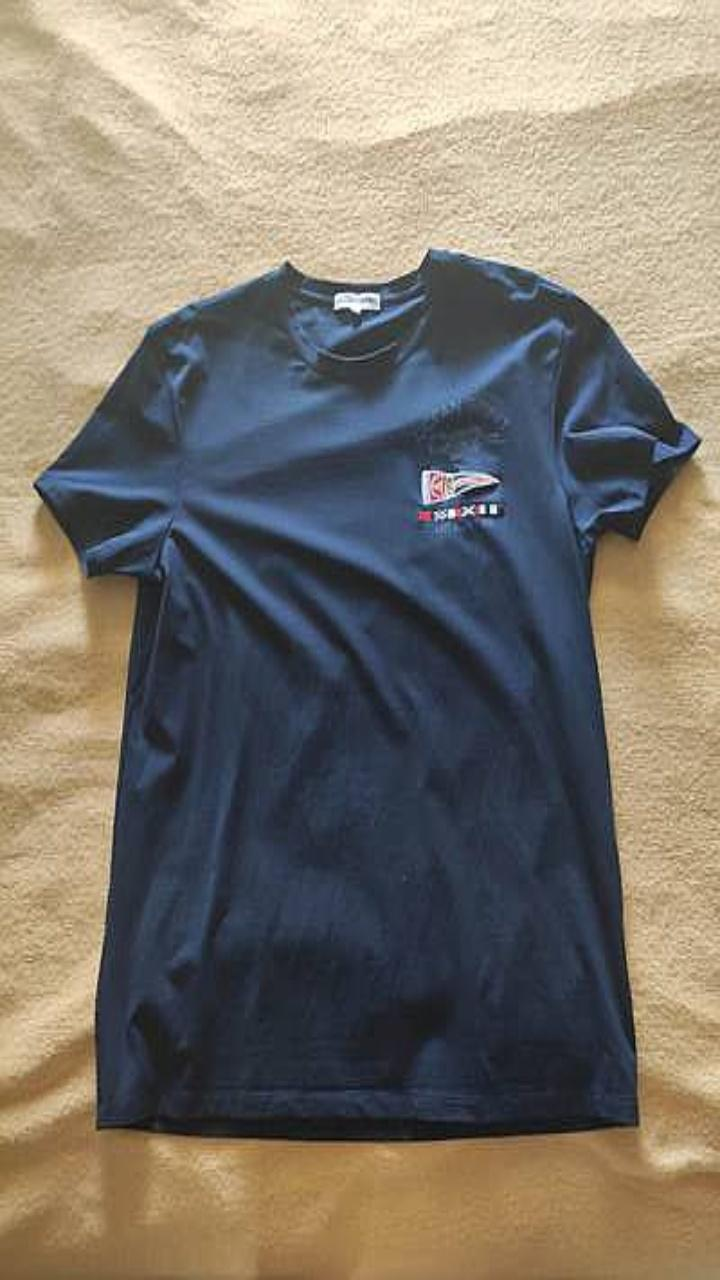T-Shirt: (33, 248, 700, 1138)
